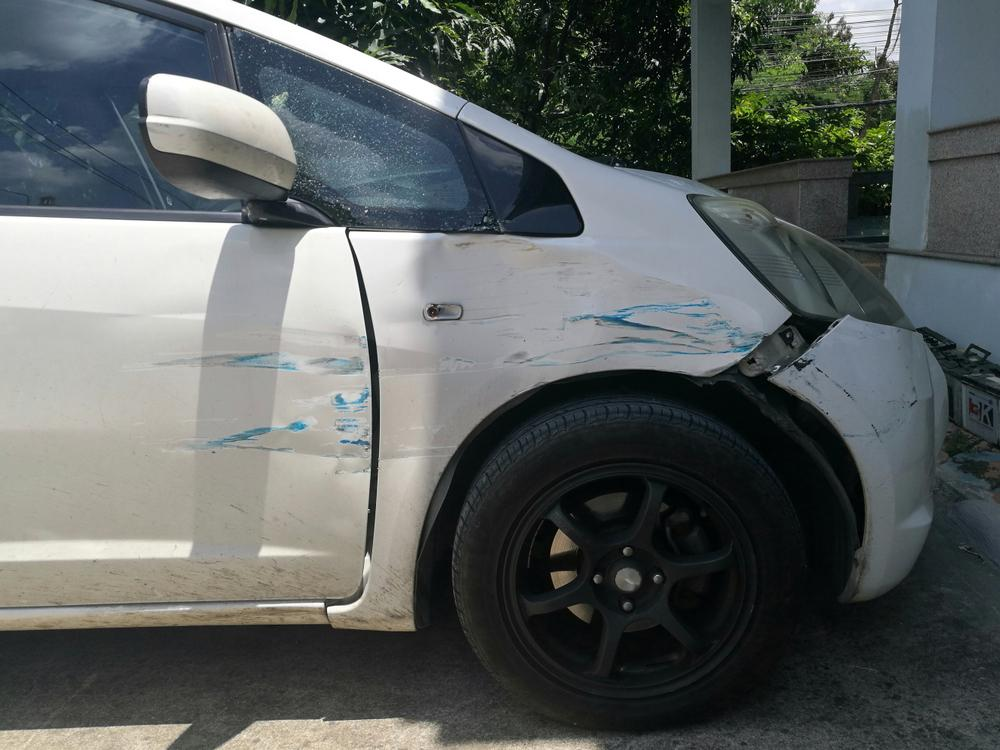dent: (413, 232, 764, 409)
glass shatter: (223, 24, 500, 233)
scratch: (139, 316, 370, 480), (779, 346, 931, 440)
